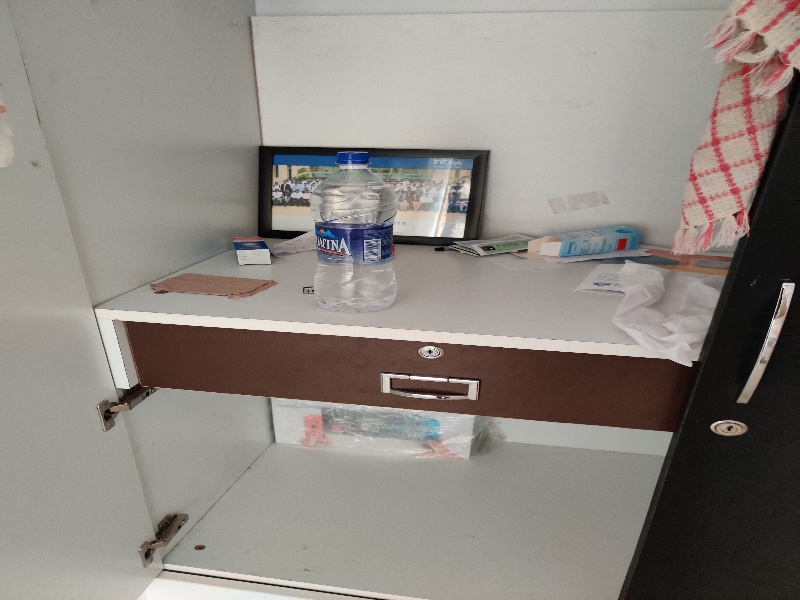bottle: (302, 142, 406, 316)
